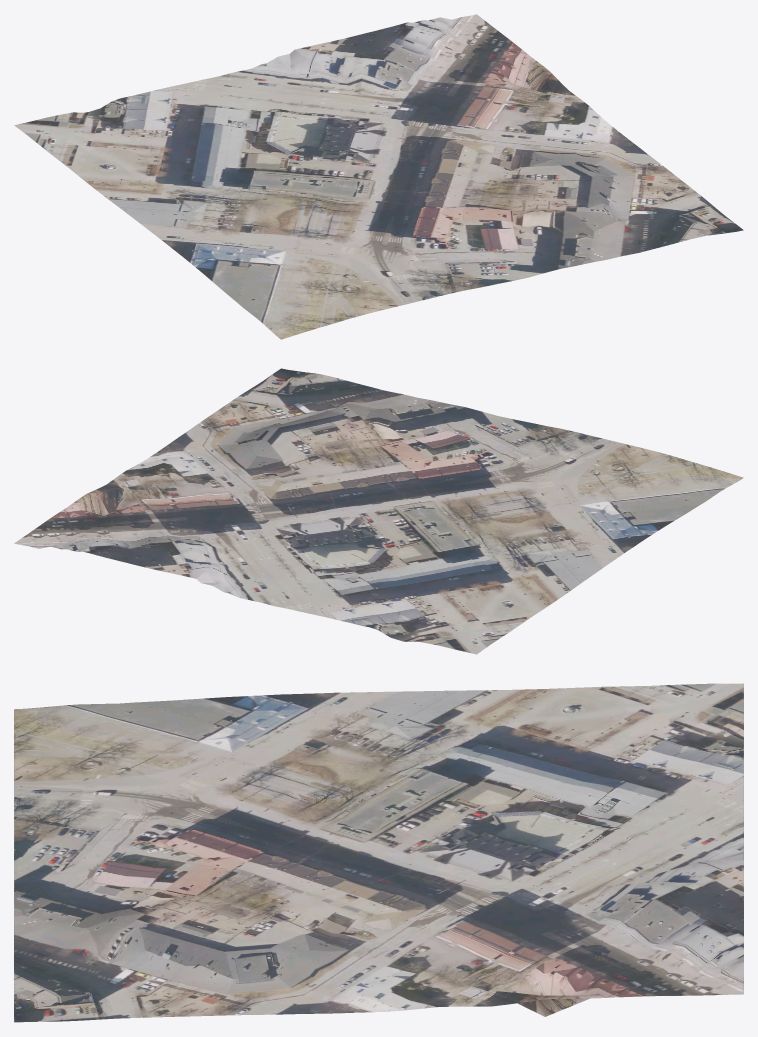
File: CM_Terrain_24487387_6821432.fbx
3 renders of one model, top to bottom at view 1: azimuth 30°, elevation 25°; view 2: azimuth 150°, elevation 25°; view 3: azimuth 270°, elevation 25°, orthographic. The views are drawn at different scales.
Parts seen in each view (by area): view 1: CM_Terrain_24487387_6821432_LOD0; view 2: CM_Terrain_24487387_6821432_LOD0; view 3: CM_Terrain_24487387_6821432_LOD0.
Boxes of the visible parts, x1=… form: CM_Terrain_24487387_6821432_LOD0: x1=14, y1=14, x2=743, y2=339; CM_Terrain_24487387_6821432_LOD0: x1=14, y1=368, x2=743, y2=654; CM_Terrain_24487387_6821432_LOD0: x1=14, y1=683, x2=743, y2=1022.
Size of what is drawn, in the model's own units: 205 by 15.22 by 205.
